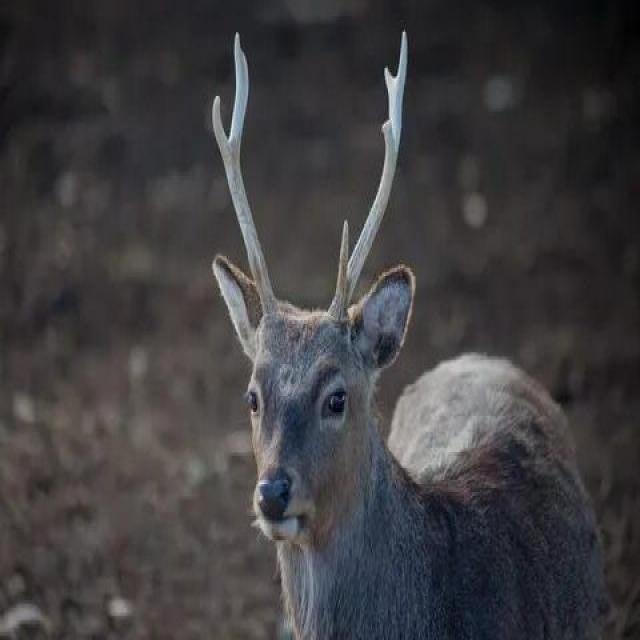deer: (198, 128, 578, 640)
